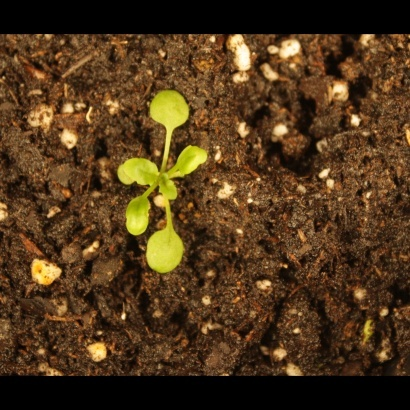leaf: (141, 82, 195, 130), (146, 225, 190, 280), (122, 188, 151, 242), (115, 156, 159, 186), (176, 141, 212, 176), (158, 178, 181, 201)
